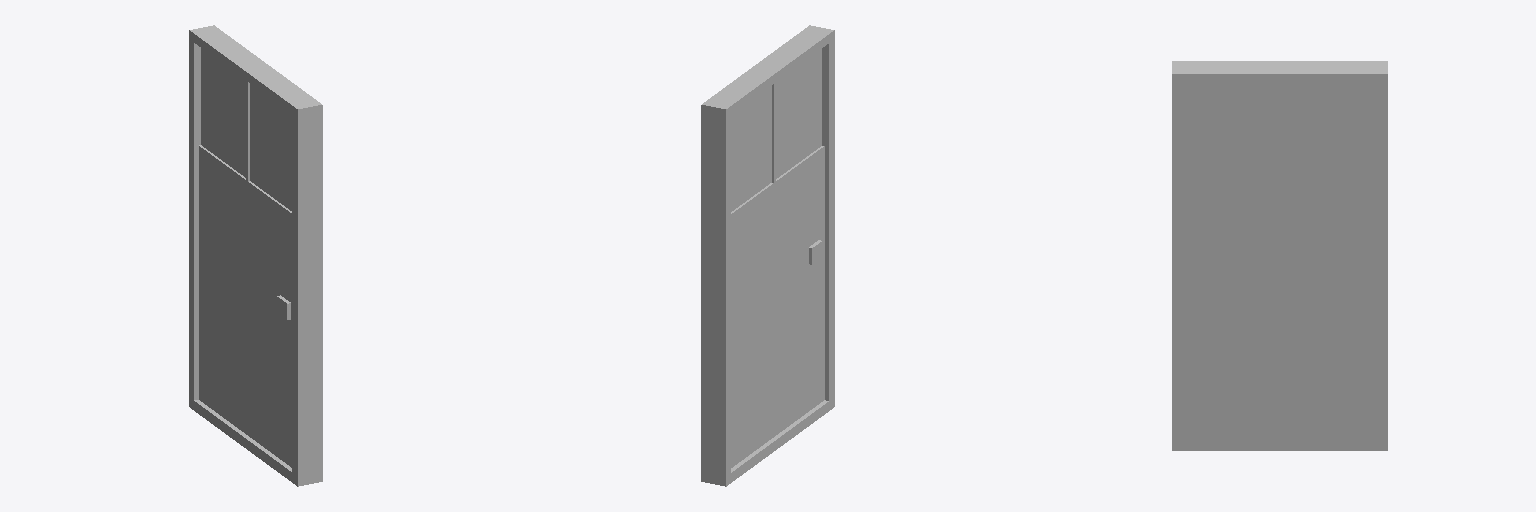
Rendered from puerta.obj.
The picture shows the model from 3 angles: view 1: azimuth 30°, elevation 25°; view 2: azimuth 150°, elevation 25°; view 3: azimuth 270°, elevation 25°; orthographic projection.
Visible parts, largest first — view 1: polySurface94 polySurface24; view 2: polySurface94 polySurface24; view 3: polySurface94 polySurface24.
Boxes of the visible parts, <box> form: polySurface94 polySurface24: <box>189,25,322,486</box>; polySurface94 polySurface24: <box>701,25,834,486</box>; polySurface94 polySurface24: <box>1172,61,1387,450</box>.
Size of the model in its own units: 0.0992 by 1.45 by 0.7528.